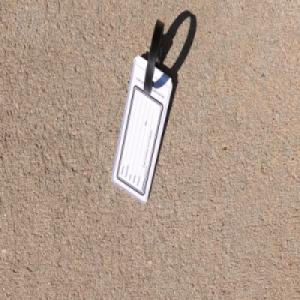LuggageTag: (111, 17, 173, 205)
